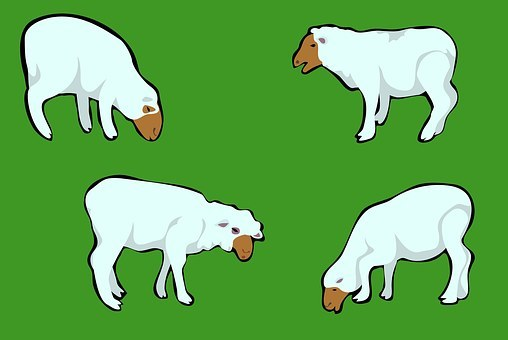sheep: (80, 174, 265, 315), (318, 179, 480, 314), (286, 21, 462, 144), (17, 13, 164, 146)
